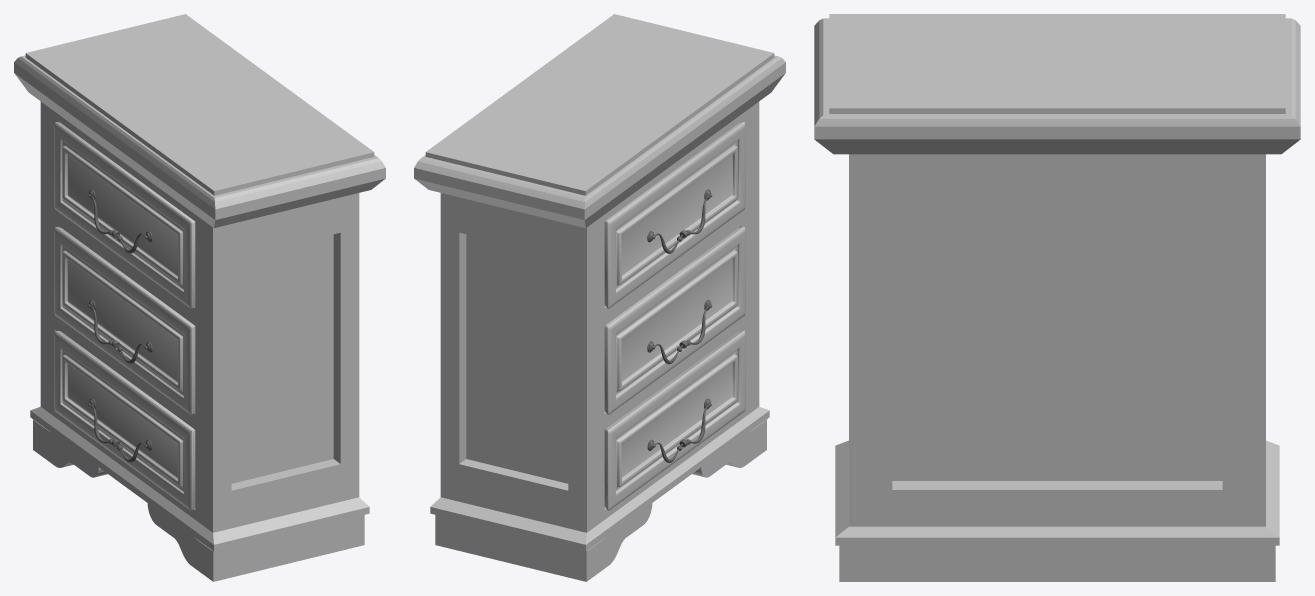
File: Cajonera.fbx
The picture shows the model from 3 angles, left to right: view 1: azimuth 30°, elevation 25°; view 2: azimuth 150°, elevation 25°; view 3: azimuth 270°, elevation 25°; orthographic projection. The views are drawn at different scales.
Visible parts, largest first — view 1: Cube.007, Cube.011, NurbsCircle.001, NurbsCircle.002, NurbsCircle.003; view 2: Cube.007, Cube.011, NurbsCircle.001, NurbsCircle.003, NurbsCircle.002; view 3: Cube.007.
Boxes of the visible parts, left/top/right/bottom form: Cube.007: left=14, top=14, right=385, bottom=581; Cube.011: left=54, top=122, right=195, bottom=510; NurbsCircle.001: left=87, top=299, right=152, bottom=363; NurbsCircle.002: left=88, top=398, right=152, bottom=462; NurbsCircle.003: left=87, top=189, right=152, bottom=253; Cube.007: left=414, top=14, right=785, bottom=581; Cube.011: left=604, top=122, right=745, bottom=510; NurbsCircle.001: left=647, top=299, right=712, bottom=364; NurbsCircle.003: left=647, top=189, right=712, bottom=253; NurbsCircle.002: left=647, top=398, right=711, bottom=462; Cube.007: left=814, top=14, right=1300, bottom=581.
Size of the model in its own units: 489 by 1068 by 987.
